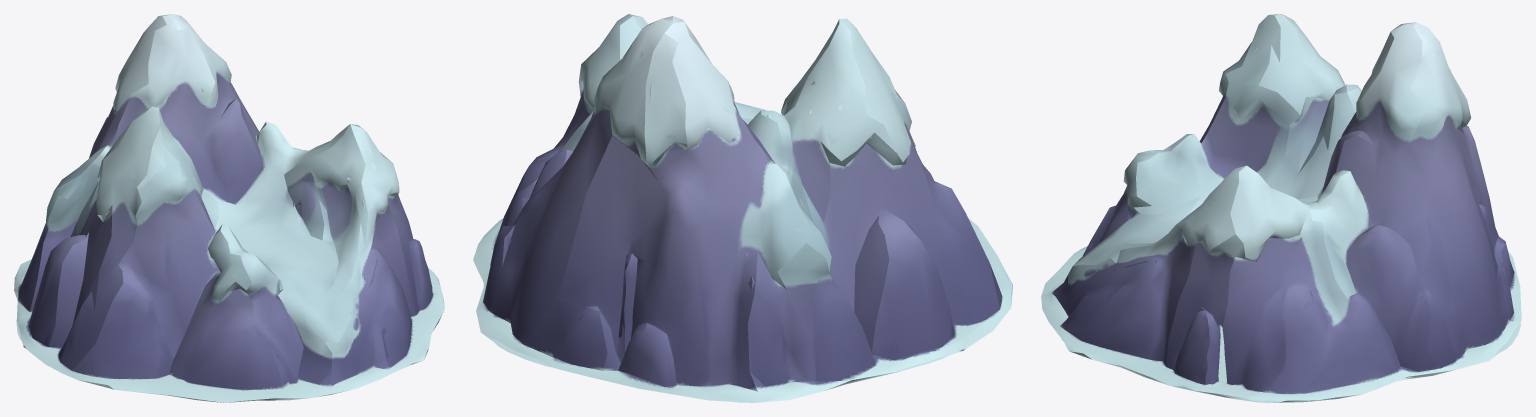
File: snow-mountain.glb
3 views of the same model, side by side, from view 1: azimuth 30°, elevation 25°; view 2: azimuth 150°, elevation 25°; view 3: azimuth 270°, elevation 25° (orthographic). The views are drawn at different scales.
Parts seen in each view (by area): view 1: world; view 2: world; view 3: world.
Part boxes in pixels (x1=…): world: x1=14, y1=14, x2=444, y2=402; world: x1=473, y1=14, x2=1012, y2=402; world: x1=1041, y1=14, x2=1521, y2=402.
Bounding box in the file's own units: 0.18 × 0.114 × 0.1783.
Materials: 1 (1 with a texture image).
